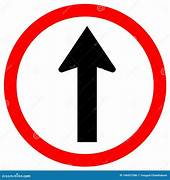forward: (4, 3, 167, 168)
